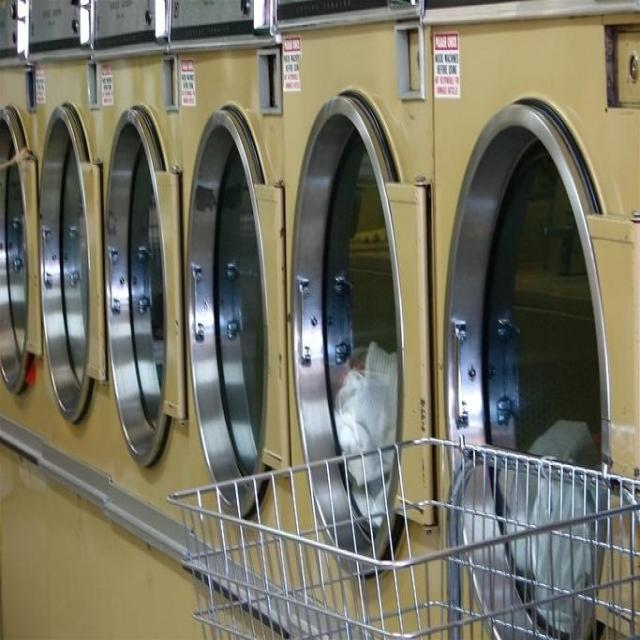E-waste: (0, 43, 640, 452)
Metal: (179, 444, 640, 639)
